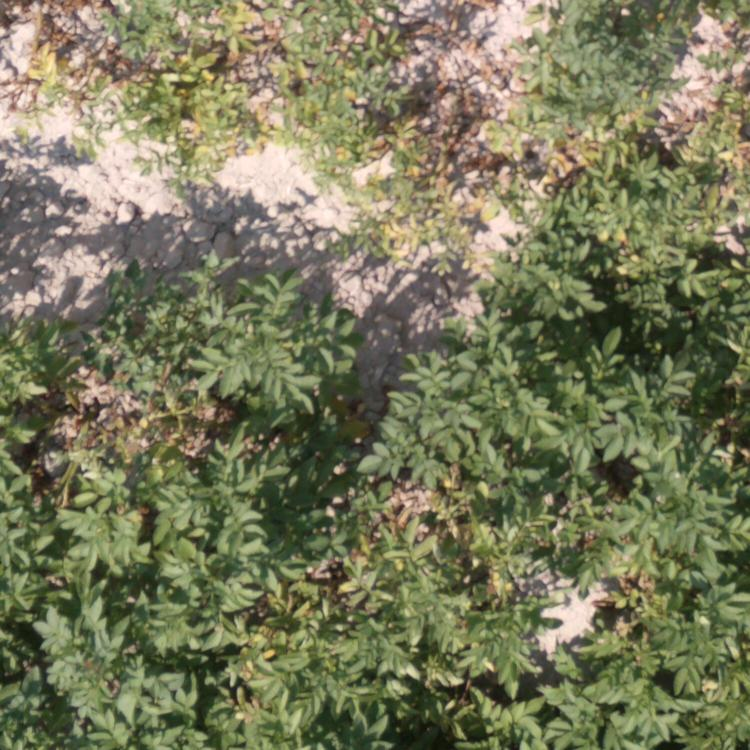healthy: (1, 248, 349, 491), (1, 494, 272, 750), (285, 496, 520, 742), (535, 437, 748, 619), (546, 241, 747, 432), (537, 617, 747, 746), (376, 314, 522, 482), (480, 225, 561, 307)
stressed: (1, 14, 252, 181), (571, 1, 746, 216), (350, 1, 456, 298), (464, 1, 556, 211), (262, 1, 346, 174)
